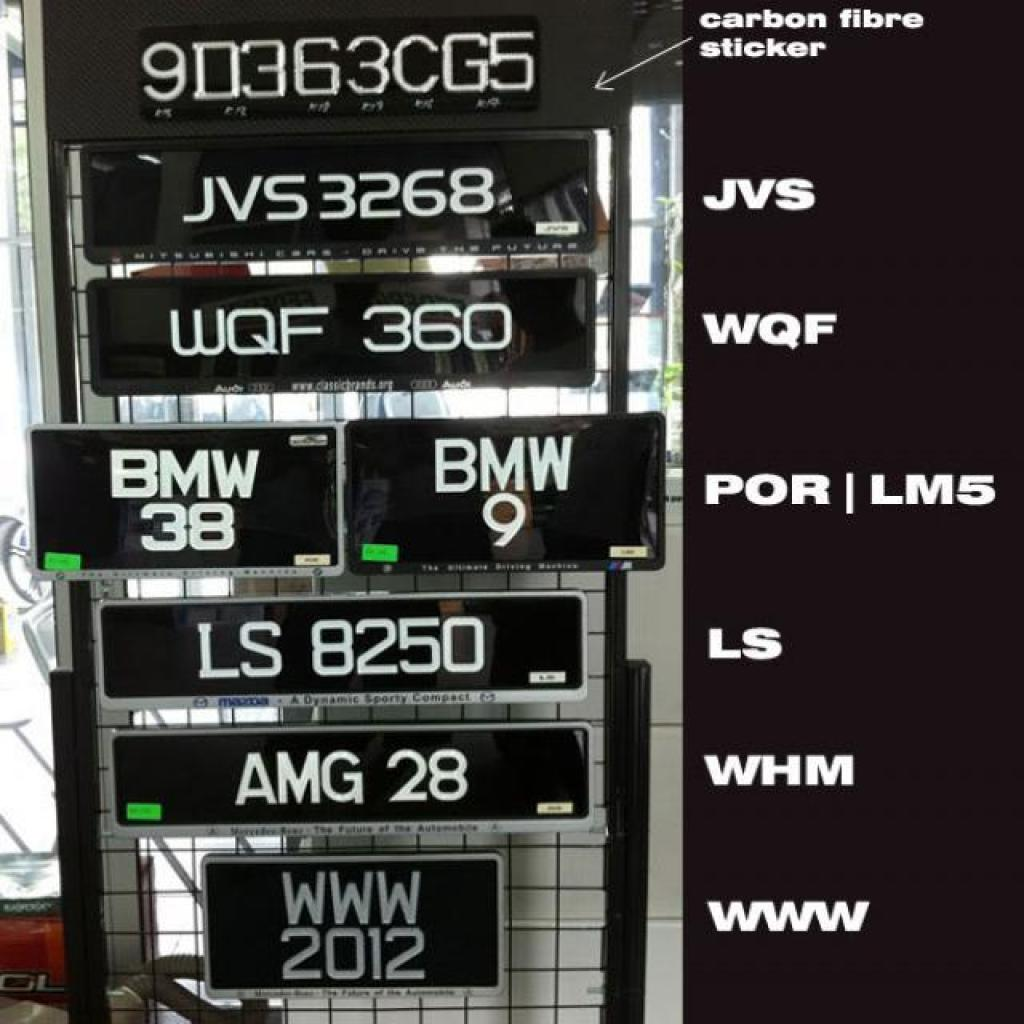car plate: (79, 131, 595, 263), (90, 268, 593, 388), (112, 721, 588, 833), (103, 592, 585, 701), (349, 412, 663, 570), (29, 422, 335, 576), (205, 855, 500, 996)
